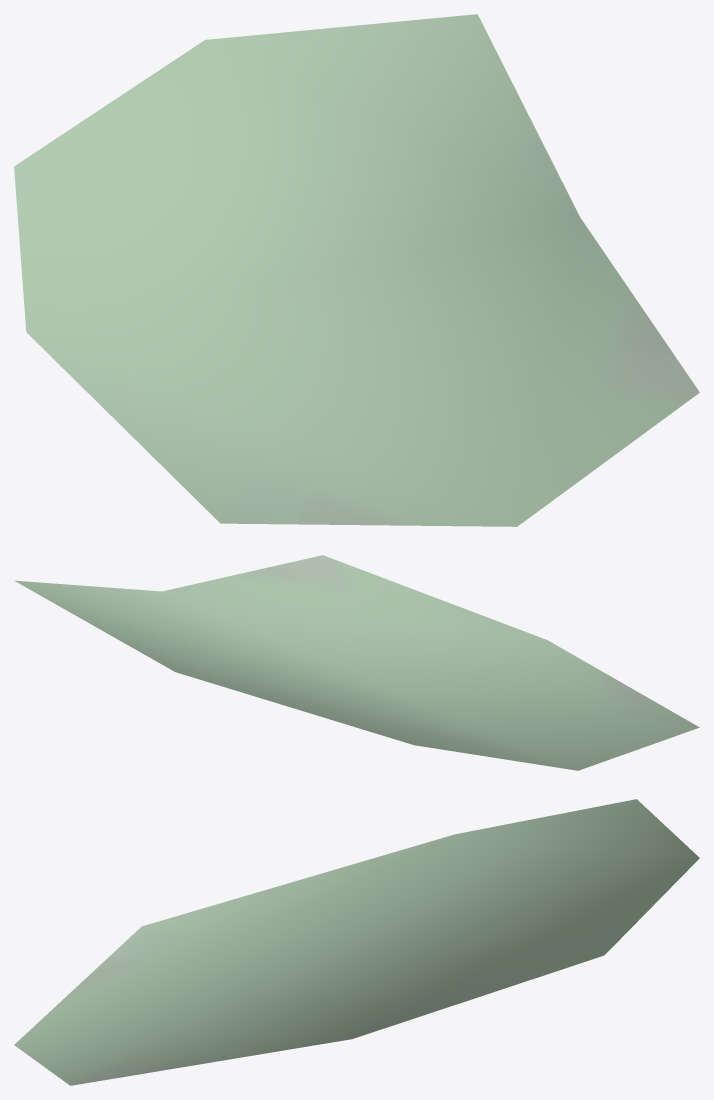
Rendered from TROLLHOLE02_HOLECAP92.fbx.
3 views of the same model, one above another, from view 1: azimuth 30°, elevation 25°; view 2: azimuth 150°, elevation 25°; view 3: azimuth 270°, elevation 25° (orthographic). The views are drawn at different scales.
Visible parts, largest first — view 1: TROLLHOLE02_HOLECAP92; view 2: TROLLHOLE02_HOLECAP92; view 3: TROLLHOLE02_HOLECAP92.
Boxes of the visible parts, x1,y1,x2,y2 form: TROLLHOLE02_HOLECAP92: (14,14,699,526); TROLLHOLE02_HOLECAP92: (14,555,699,770); TROLLHOLE02_HOLECAP92: (14,799,699,1085).
Size of the model in its own units: 8786 by 3544 by 10247.
Materials: 1 (1 with a texture image).
